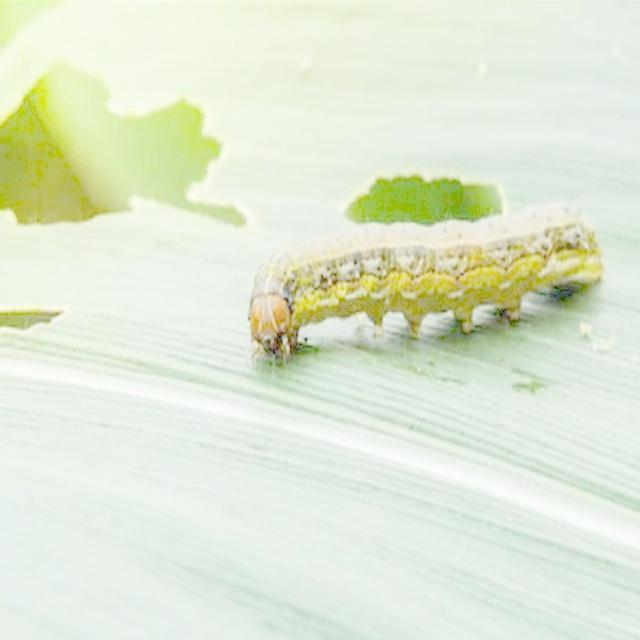Plaga: (244, 208, 603, 365)
